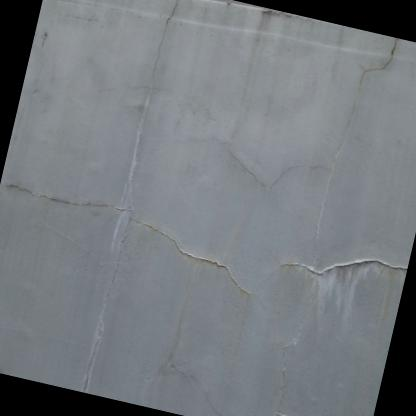crack: (2, 0, 248, 394), (295, 257, 409, 276)
